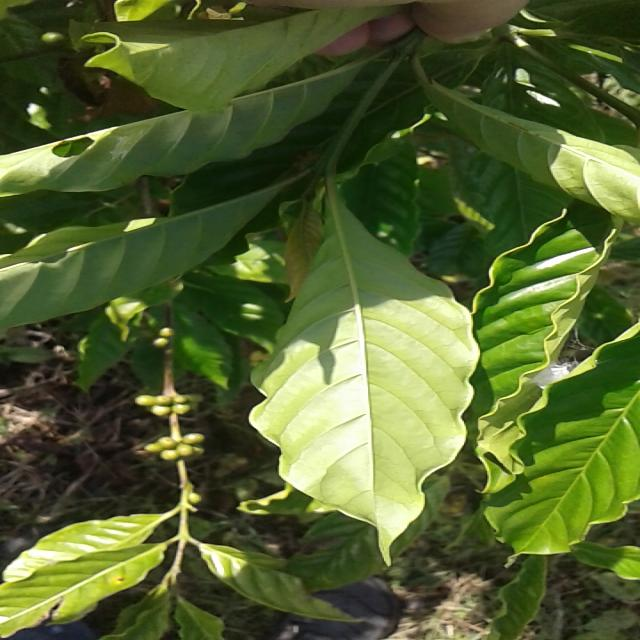Sanas: (249, 194, 481, 561)
